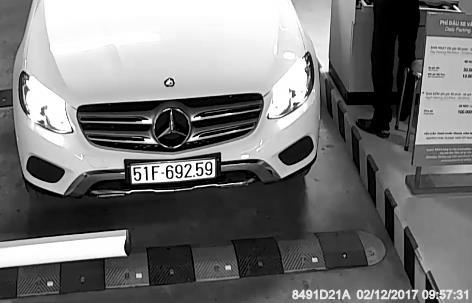License-plate: (124, 144, 230, 199)
